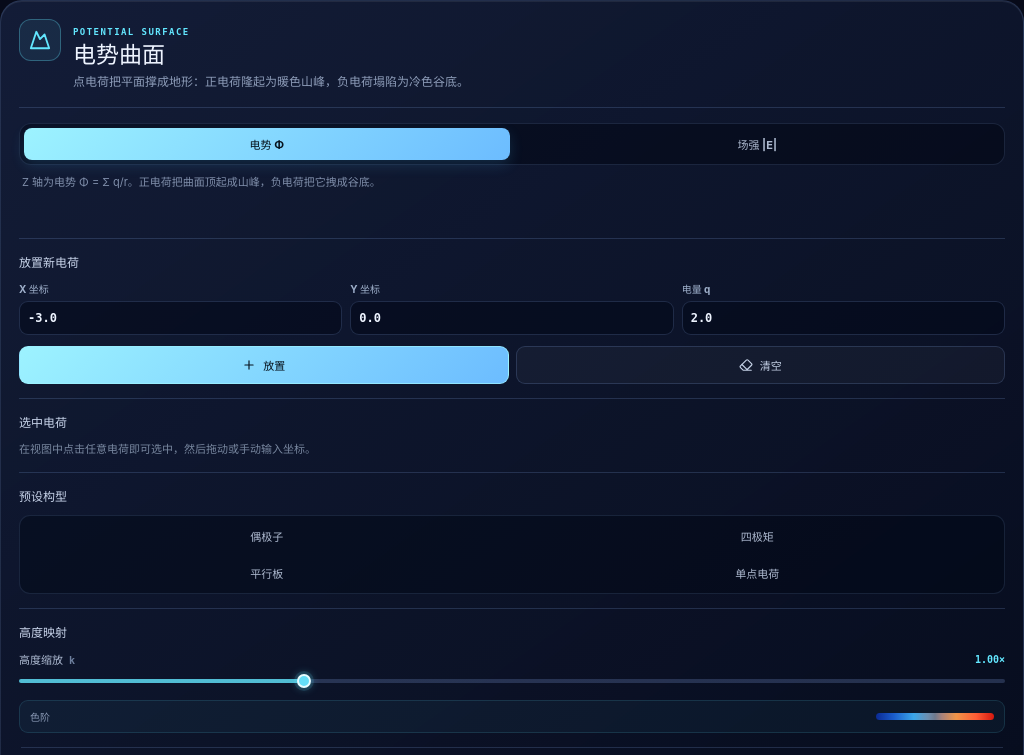
it: PotentialFieldLab › refuses a zero charge
Replace the text in the number field labelled "电量 q" with "0" at (843, 318), box [682,301,1005,335]
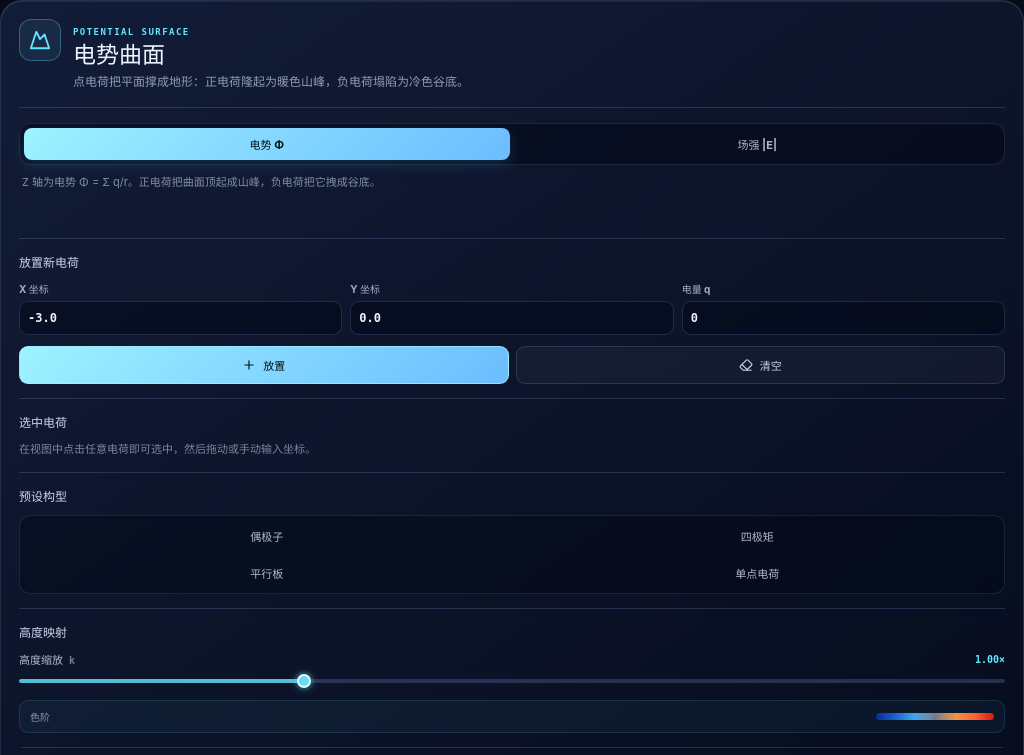
Click the button "放置" at (264, 365), box [19,346,508,384]
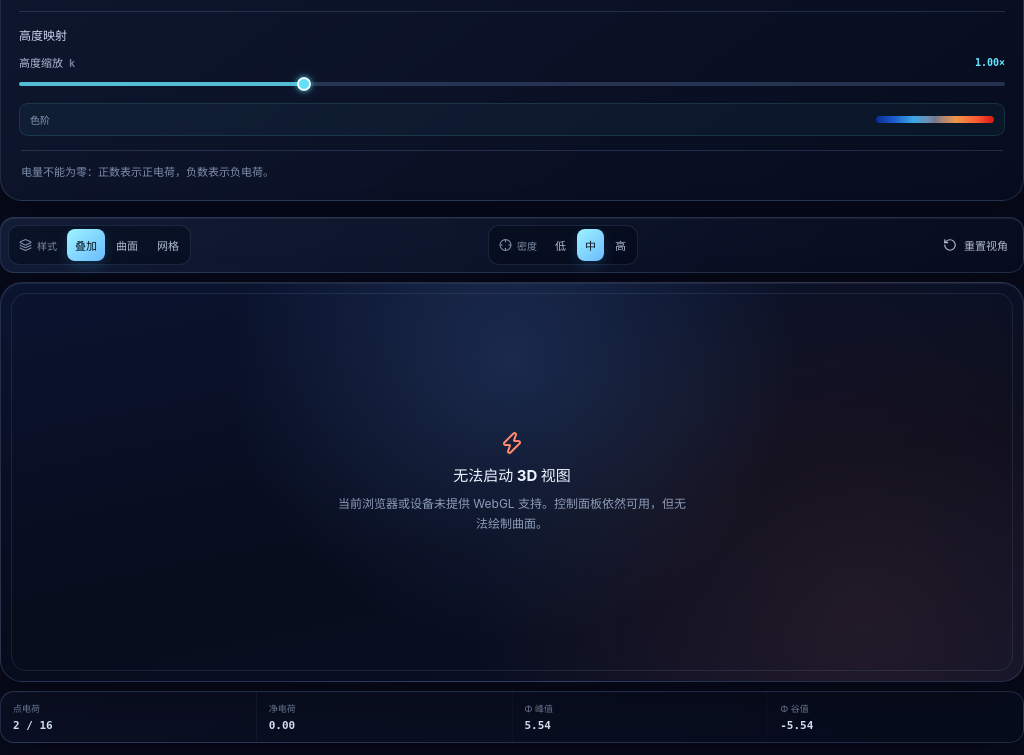
expect the text "2 / 16" is shown: met, box [13,719,53,732]
expect the text "电量不能为零：正数表示正电荷，负数表示负电荷。" is shown: met, box [21,150,1003,182]
